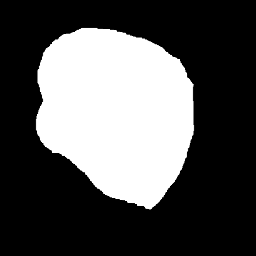mass: (39, 35, 195, 204)
